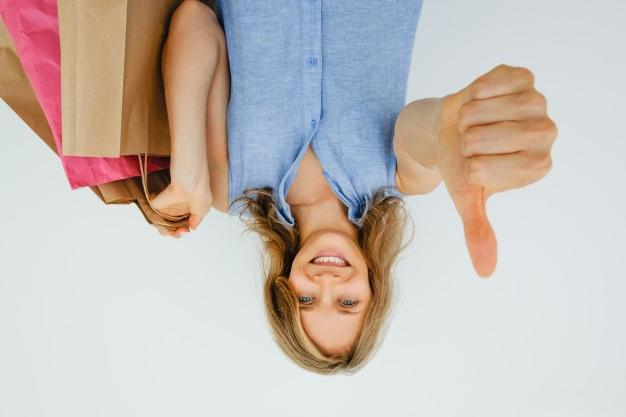thumbsdown: (453, 64, 559, 280)
